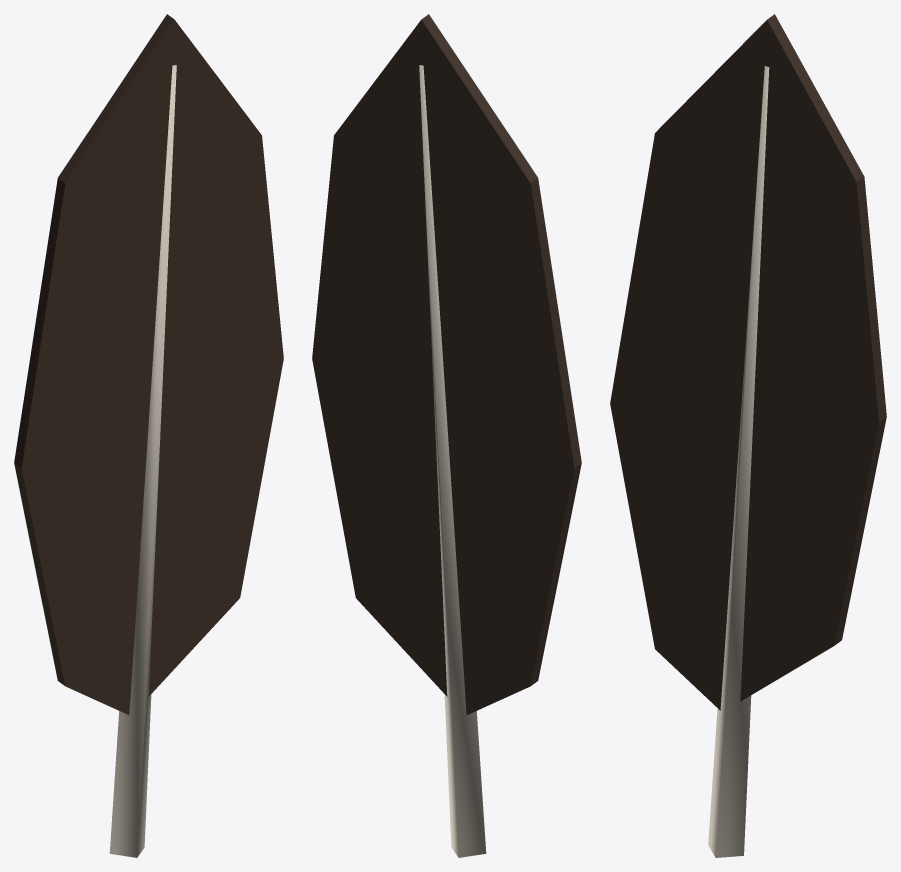
The model's file is feather.glb.
3 views of the same model, side by side, from view 1: azimuth 30°, elevation 25°; view 2: azimuth 150°, elevation 25°; view 3: azimuth 330°, elevation 25° (orthographic). The views are drawn at different scales.
Visible parts, largest first — view 1: feather_v0; view 2: feather_v0; view 3: feather_v0.
Part boxes in pixels (x1,y1,x2,y2): feather_v0: (14, 14, 283, 857); feather_v0: (312, 14, 581, 857); feather_v0: (610, 14, 886, 857).
Bounding box in the file's own units: 0.12 × 0.3605 × 0.016.
